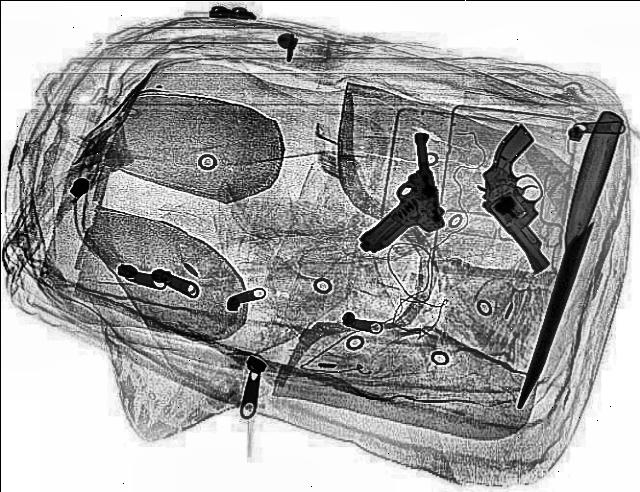Gun: (444, 124, 606, 274), (332, 134, 450, 252)
Knife: (507, 112, 623, 410)
